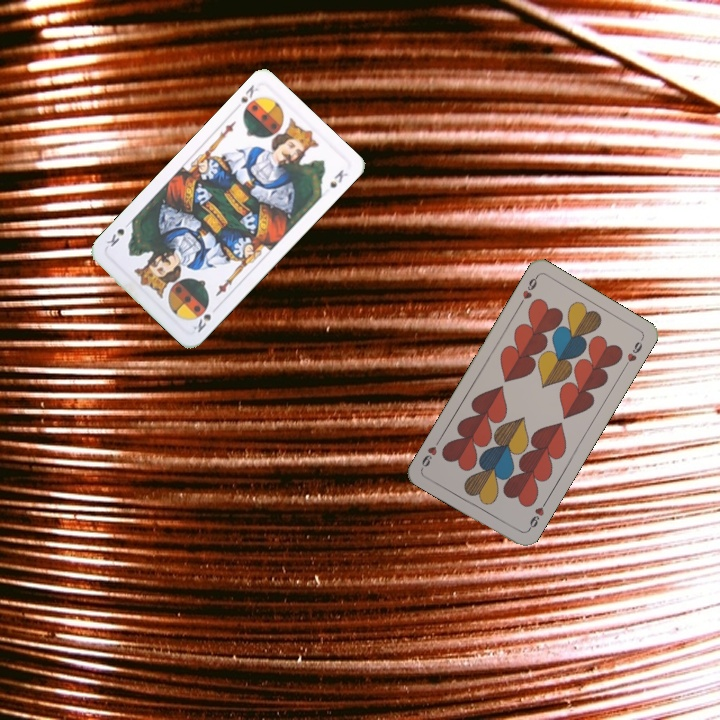H9: (515, 272, 541, 309), (523, 497, 549, 534)
SK: (189, 302, 214, 335), (237, 81, 261, 105)
